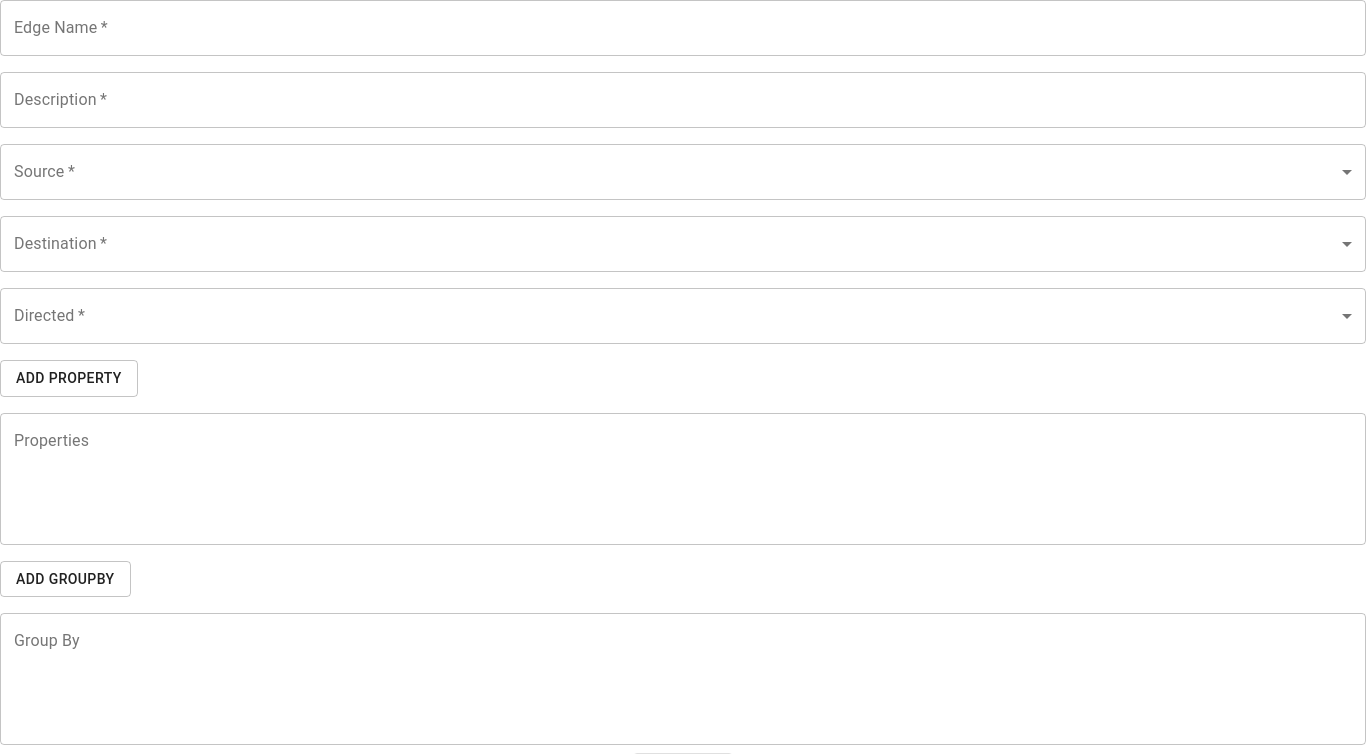
Test: Add Edge UI Component › Add Edge inputs › should display error message when invalid description entered
Step 1. Type "Edge description +" into the field with id "edge-description-input" → (683,100), box [0,72,1365,128]
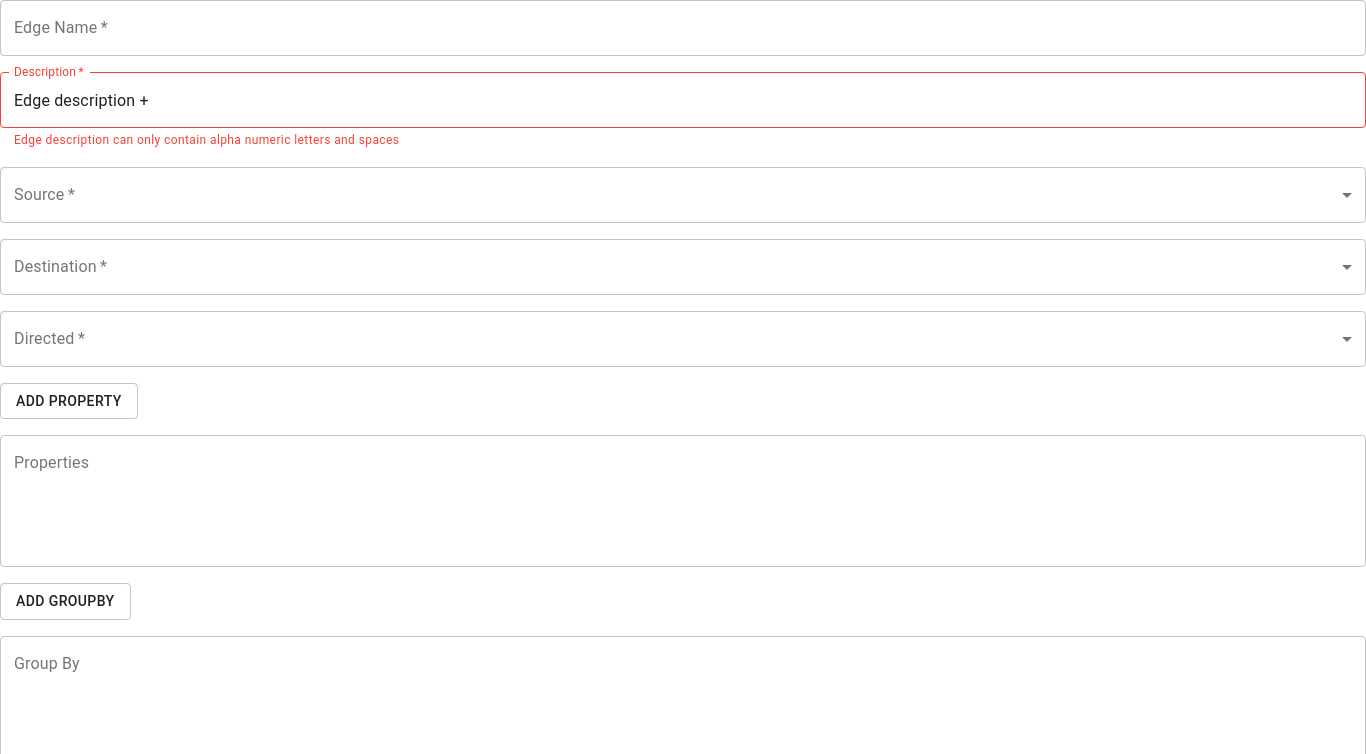
Now the text with id "edge-description-input-helper-text" reads "Edge description can only contain alpha numeric letters and spaces", box [14,133,399,147]
